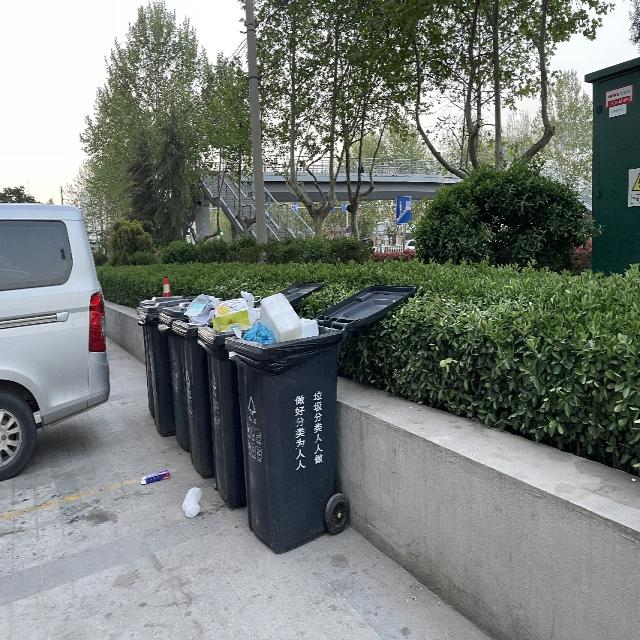garbage: (140, 469, 200, 519)
garbage_bin: (136, 294, 175, 436), (157, 300, 190, 451)
overflow: (224, 290, 348, 555), (198, 290, 255, 506), (173, 293, 217, 478)
